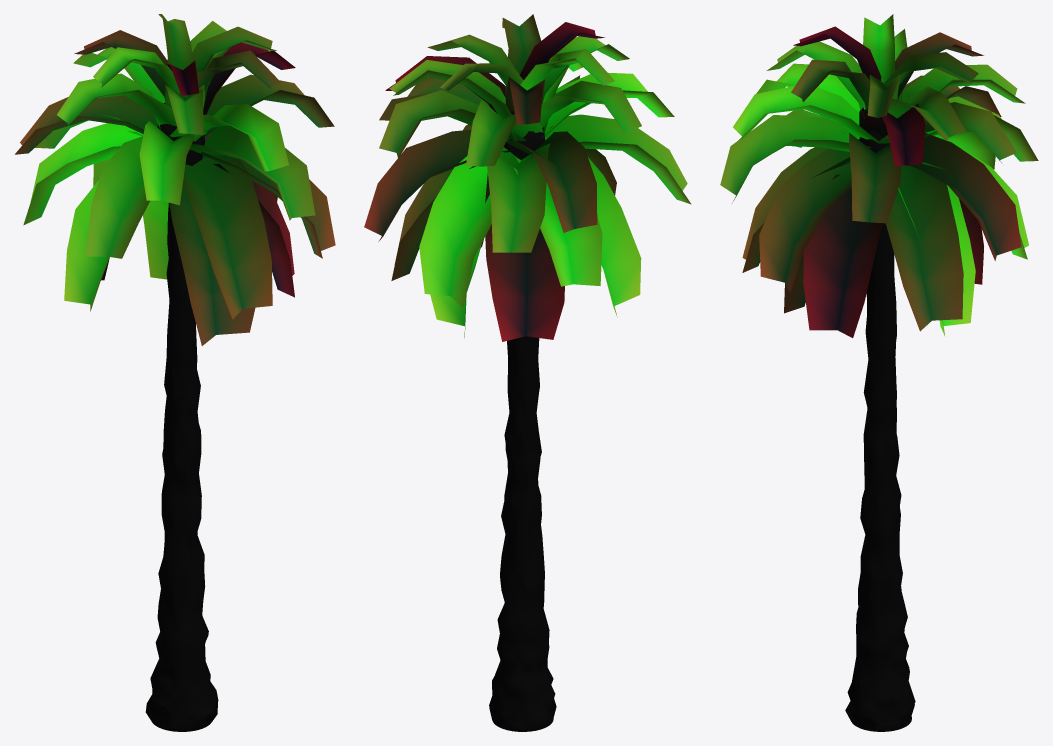
Rendered from SM_Palm5_5.fbx.
3 views of the same model, side by side, from view 1: azimuth 30°, elevation 25°; view 2: azimuth 150°, elevation 25°; view 3: azimuth 270°, elevation 25° (orthographic).
Parts seen in each view (by area): view 1: SM_Palm5_5; view 2: SM_Palm5_5; view 3: SM_Palm5_5.
Boxes of the visible parts, x1,y1,x2,y2 form: SM_Palm5_5: (15, 14, 335, 731); SM_Palm5_5: (364, 14, 691, 731); SM_Palm5_5: (720, 14, 1038, 731).
Bounding box in the file's own units: 880 × 2090 × 890.
